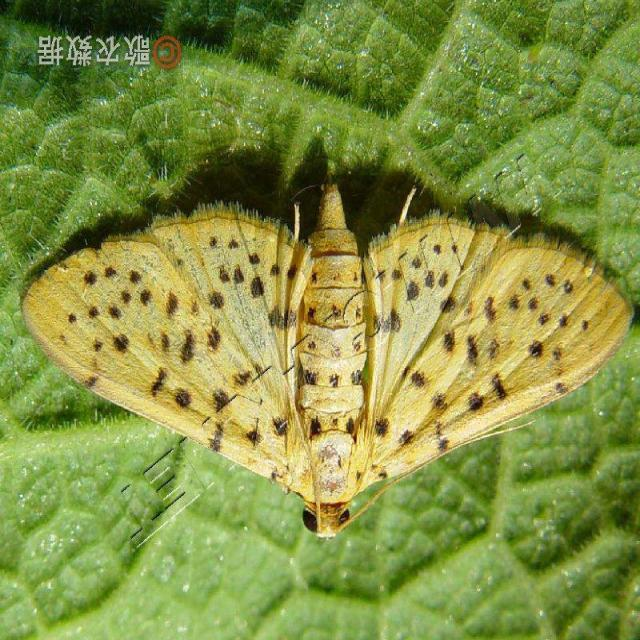peach borer: (15, 167, 636, 542)
